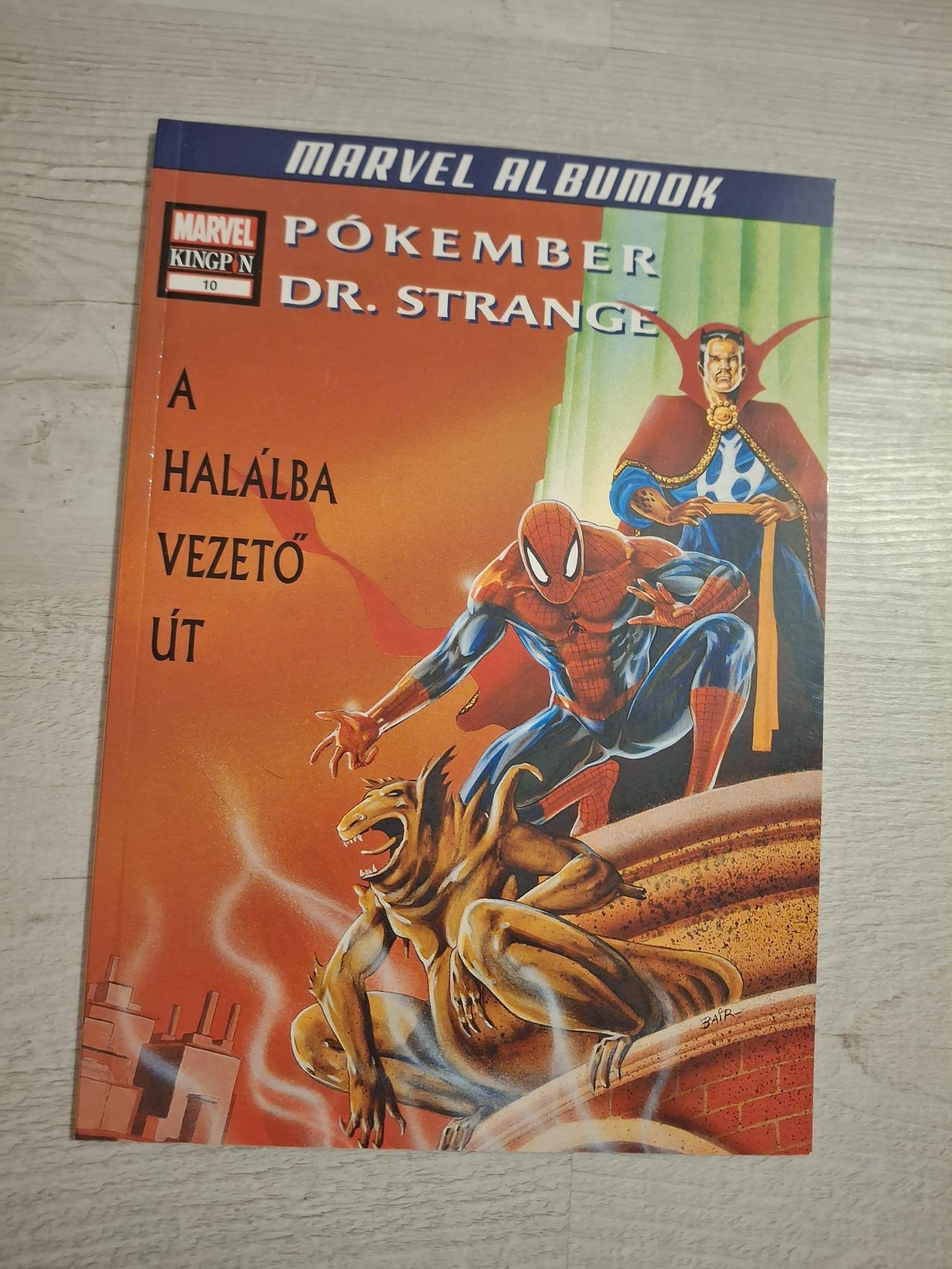comic: (75, 119, 867, 1179)
